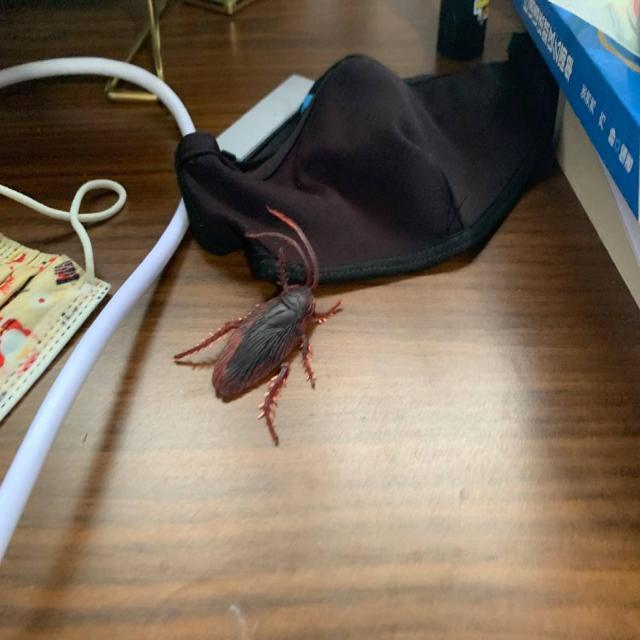Cockroach: (163, 191, 350, 459)
